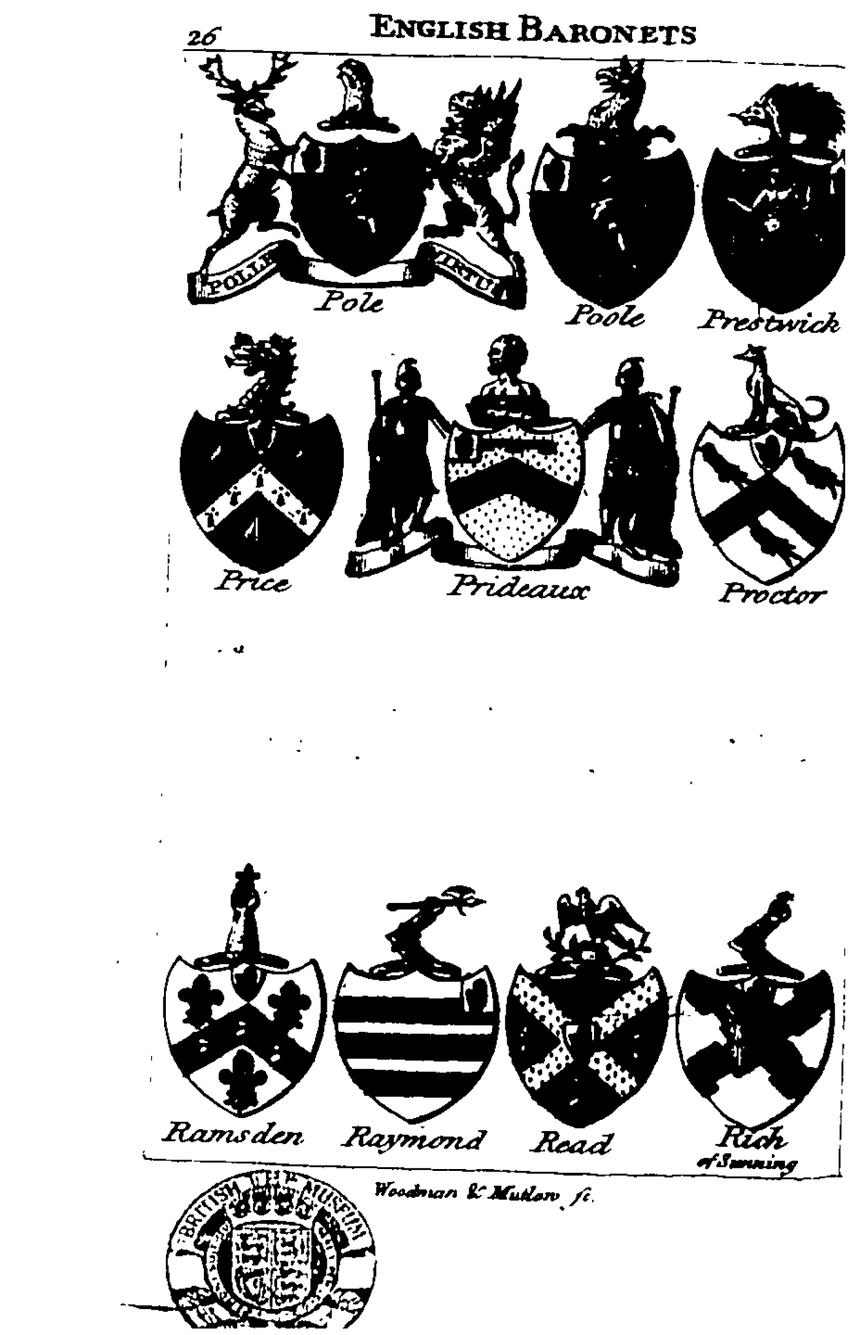coat_of_arms: (347, 324, 689, 607), (201, 47, 539, 328)
